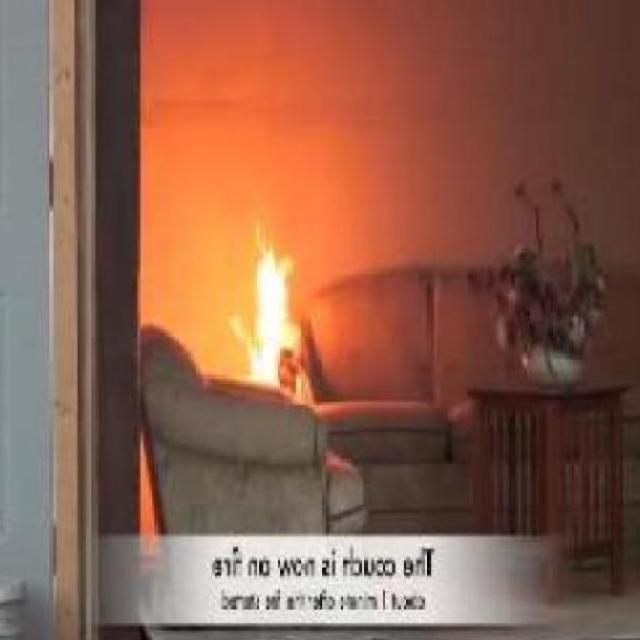smoke: (225, 222, 306, 393)
